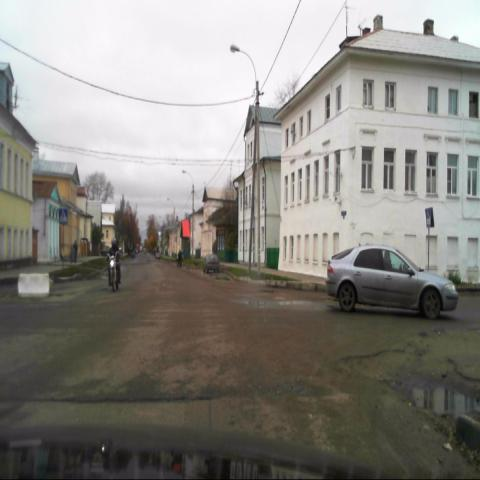5_19_1: (59, 208, 68, 224)
